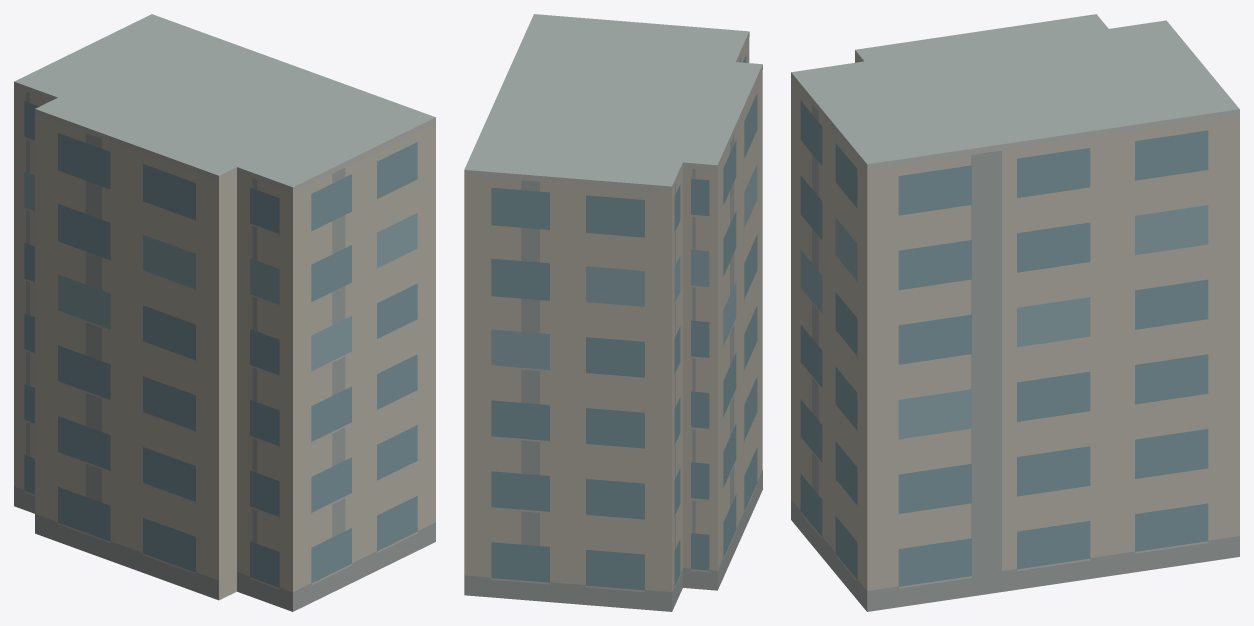
File: residential-15520649-5bca-4bd1-bb8a-c4521c205d93.glb
The picture shows the model from 3 angles, left to right: view 1: azimuth 30°, elevation 25°; view 2: azimuth 150°, elevation 25°; view 3: azimuth 270°, elevation 25°; orthographic projection. The views are drawn at different scales.
Parts seen in each view (by area): view 1: residential-15520649-5bca-4bd1-bb8a-c4521c205d93.tmp; view 2: residential-15520649-5bca-4bd1-bb8a-c4521c205d93.tmp; view 3: residential-15520649-5bca-4bd1-bb8a-c4521c205d93.tmp.
Boxes of the visible parts, <box> form: residential-15520649-5bca-4bd1-bb8a-c4521c205d93.tmp: <box>14,14,435,611</box>; residential-15520649-5bca-4bd1-bb8a-c4521c205d93.tmp: <box>464,14,762,611</box>; residential-15520649-5bca-4bd1-bb8a-c4521c205d93.tmp: <box>791,14,1239,611</box>.
Size of the model in its own units: 12.97 by 18 by 16.36.
